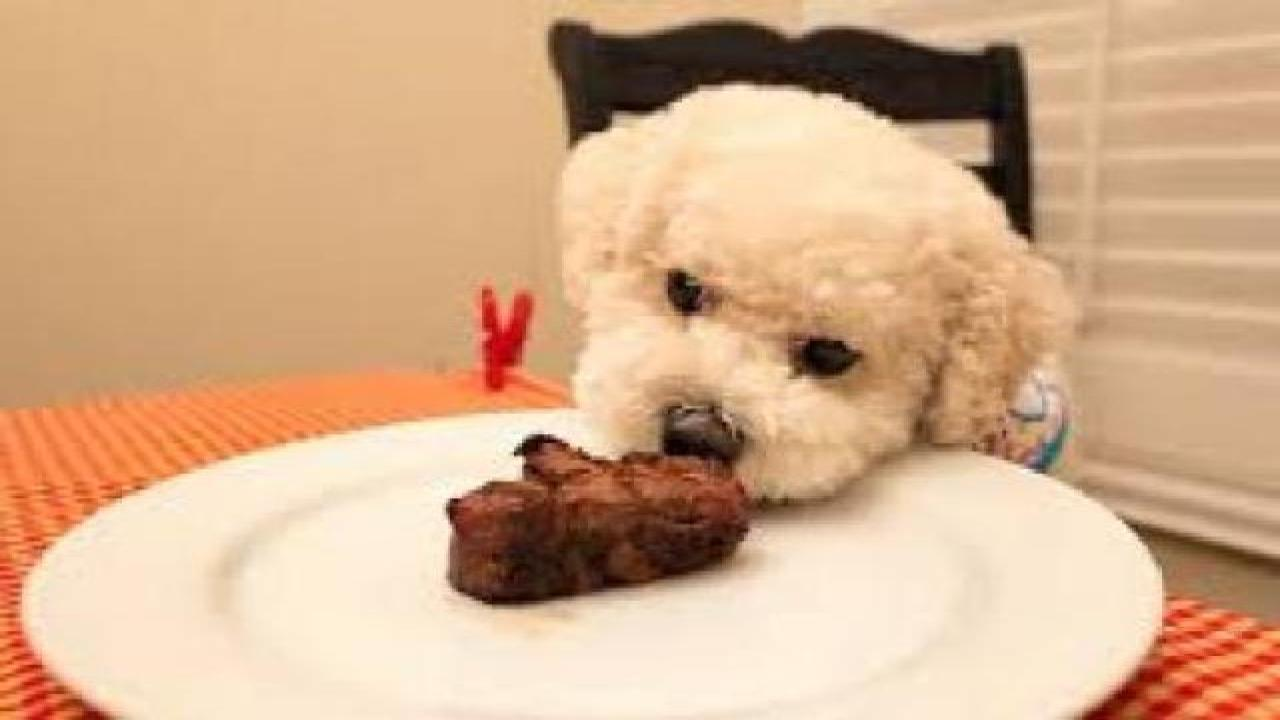done: (434, 447, 788, 612)
